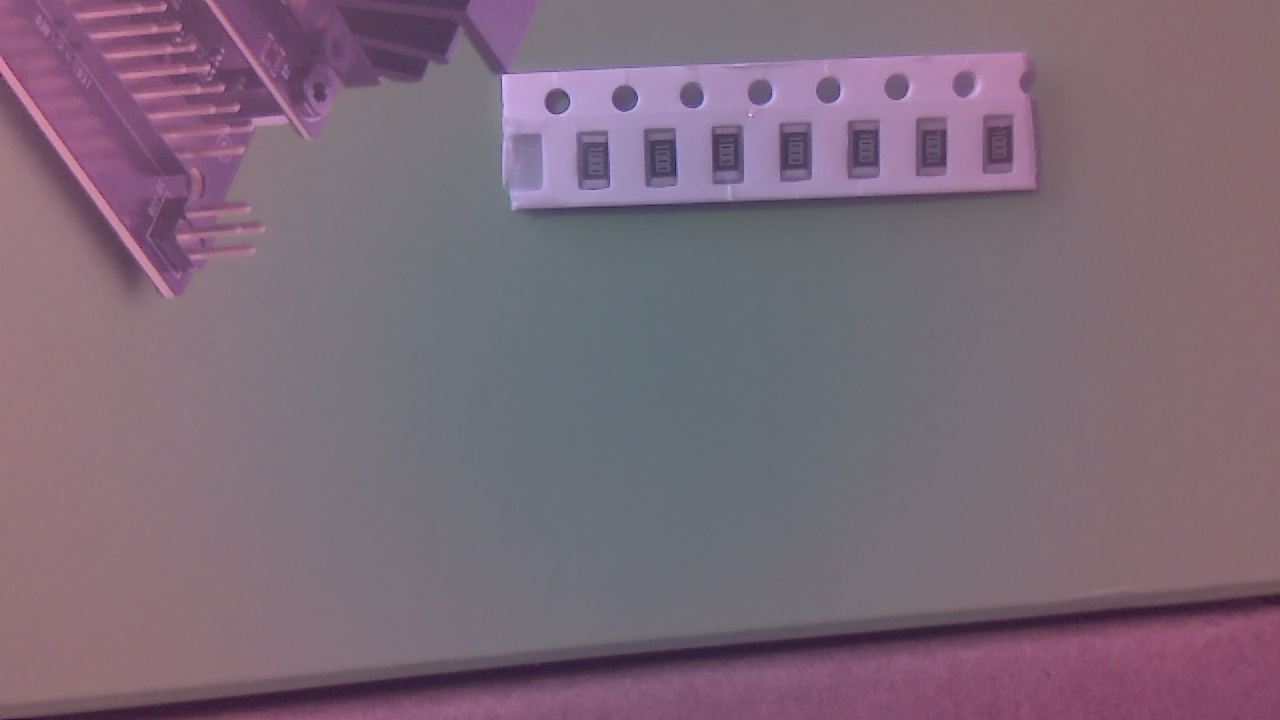Resistor: (647, 132, 685, 191), (917, 121, 954, 181), (580, 136, 617, 196), (986, 118, 1021, 178), (851, 123, 885, 184), (715, 130, 749, 191), (785, 128, 820, 187)
